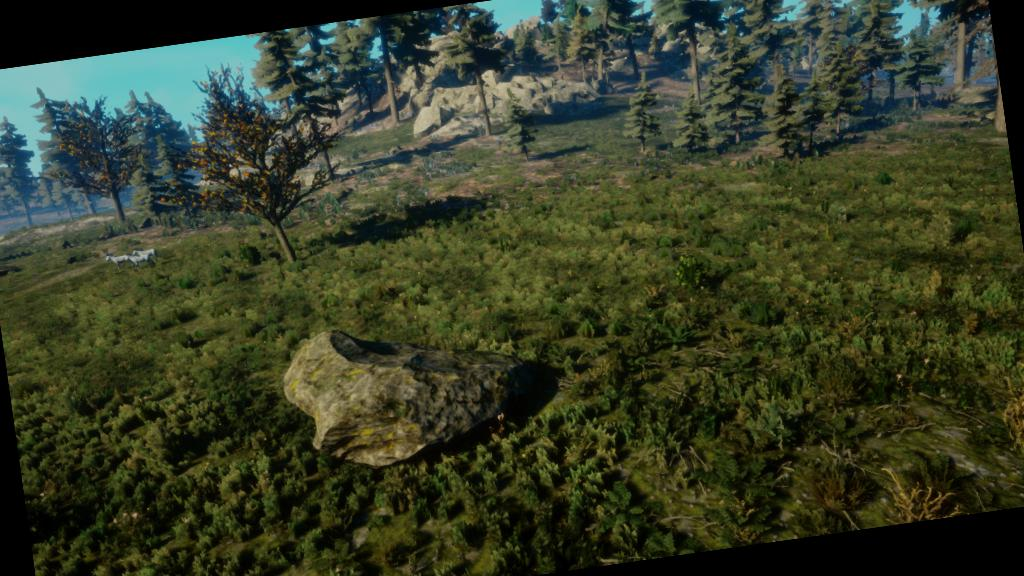zebra: (102, 248, 138, 272), (122, 249, 153, 273), (132, 243, 162, 266)
